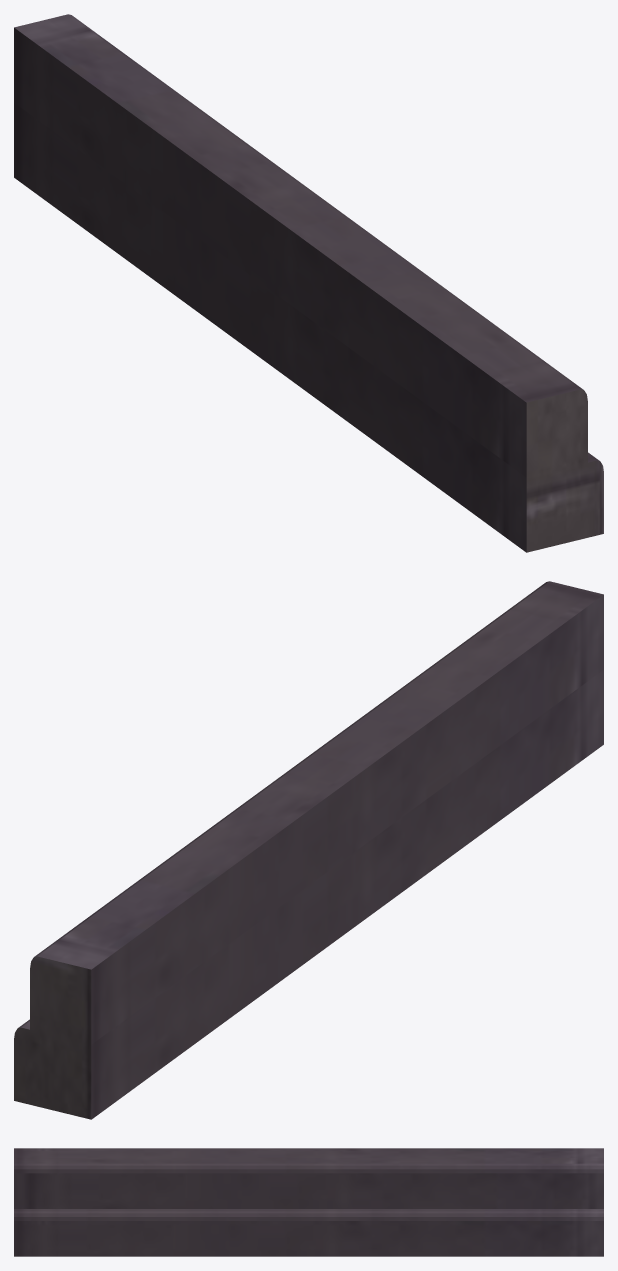
The model's file is Wall Decorative.fbx.
The picture shows the model from 3 angles, top to bottom: view 1: azimuth 30°, elevation 25°; view 2: azimuth 150°, elevation 25°; view 3: azimuth 270°, elevation 25°; orthographic projection. The views are drawn at different scales.
Visible parts, largest first — view 1: Cube.010; view 2: Cube.010; view 3: Cube.010.
Part boxes in pixels (bbox=[...]): Cube.010: bbox=[14, 14, 603, 552]; Cube.010: bbox=[14, 581, 603, 1119]; Cube.010: bbox=[14, 1148, 603, 1256].
Bounding box in the file's own units: 0.872 × 1.61 × 9.99.
